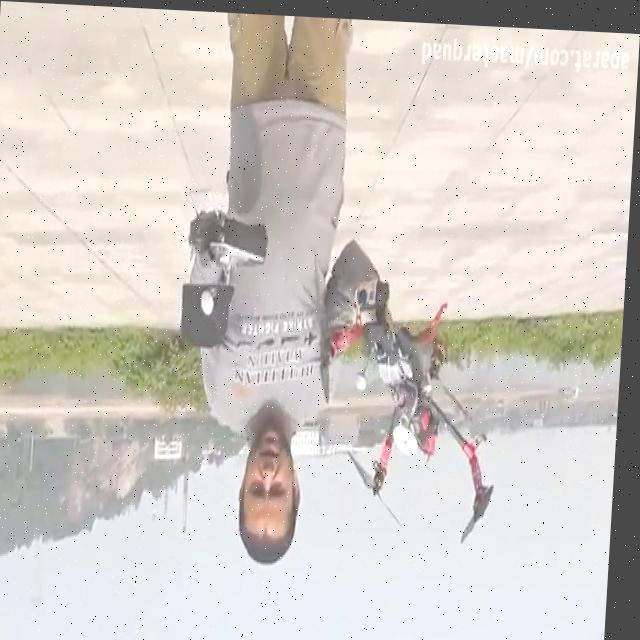drone: (313, 273, 510, 540)
